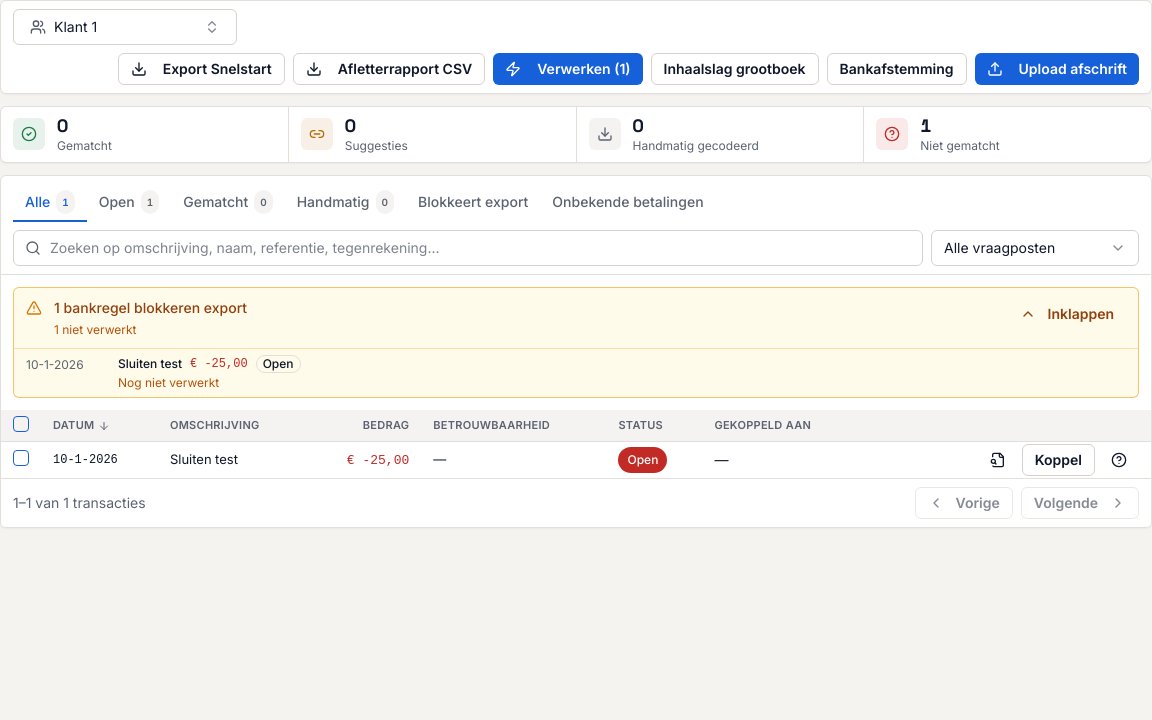
Test: Bank pagina UI › detail-Sheet sluit via de Sheet-sluitknop
Click the row "10-1-2026 Sluiten test € -25,00 — Open — Koppel": (85, 460) [1,442,1151,478]
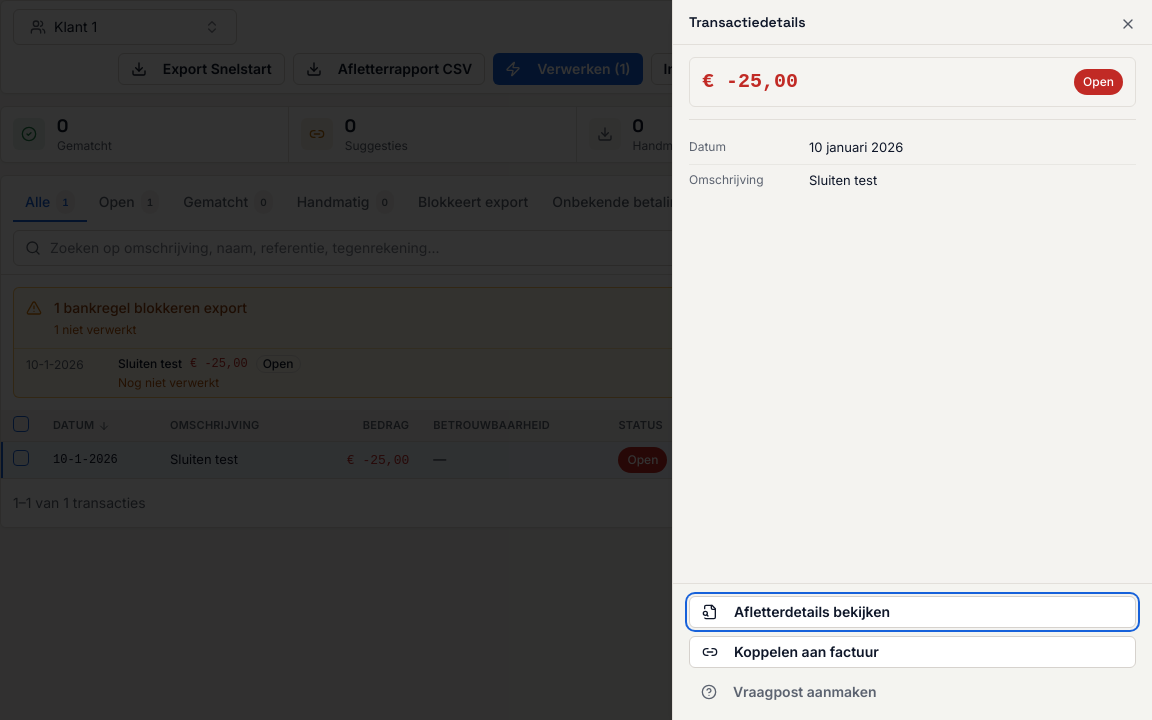
Now the heading "Transactiedetails" is shown, box [689,13,806,31]
// Close via the X button (aria-label "Close")
Click the button named "Close": (1128, 24) [1120,16,1136,32]
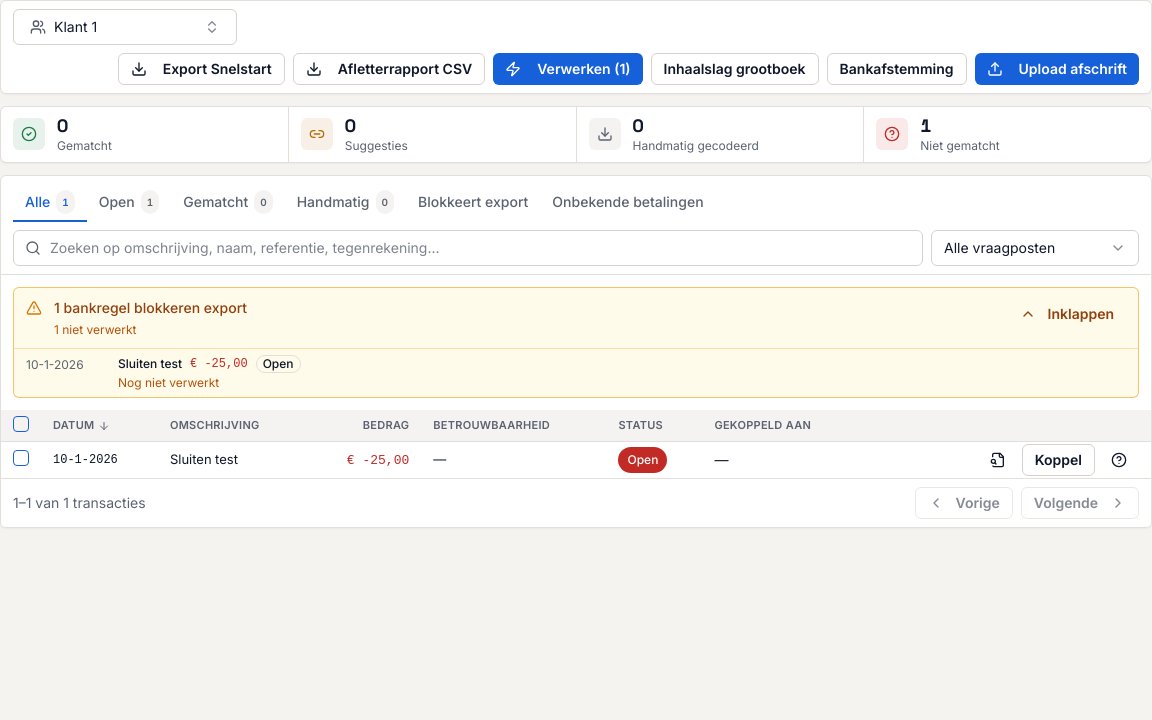
Now the heading "Transactiedetails" is gone
